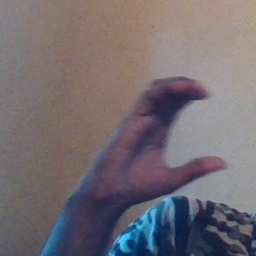C: (139, 72, 236, 187)
